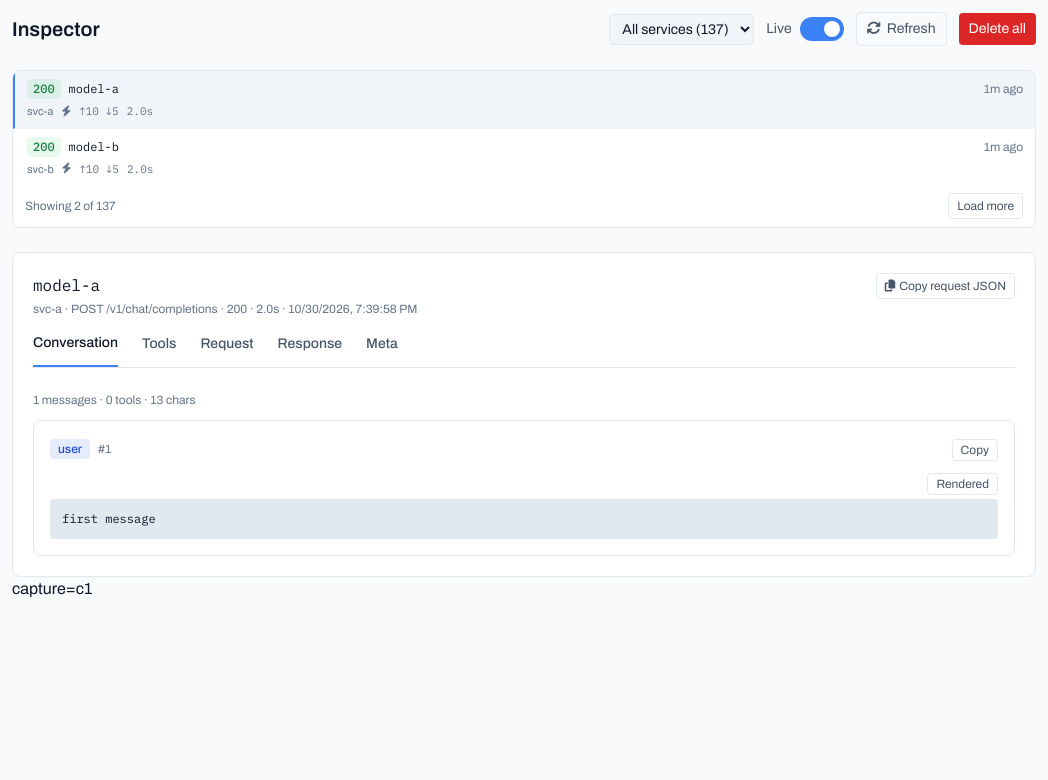
Test: InspectorPage detail behaviour › selecting a different capture resets the sub-tab to Conversation
Expected: the text "first message" is shown, [50,499,998,539]
Click the button "Request". click: (227, 350)
box: [200,333,254,367]
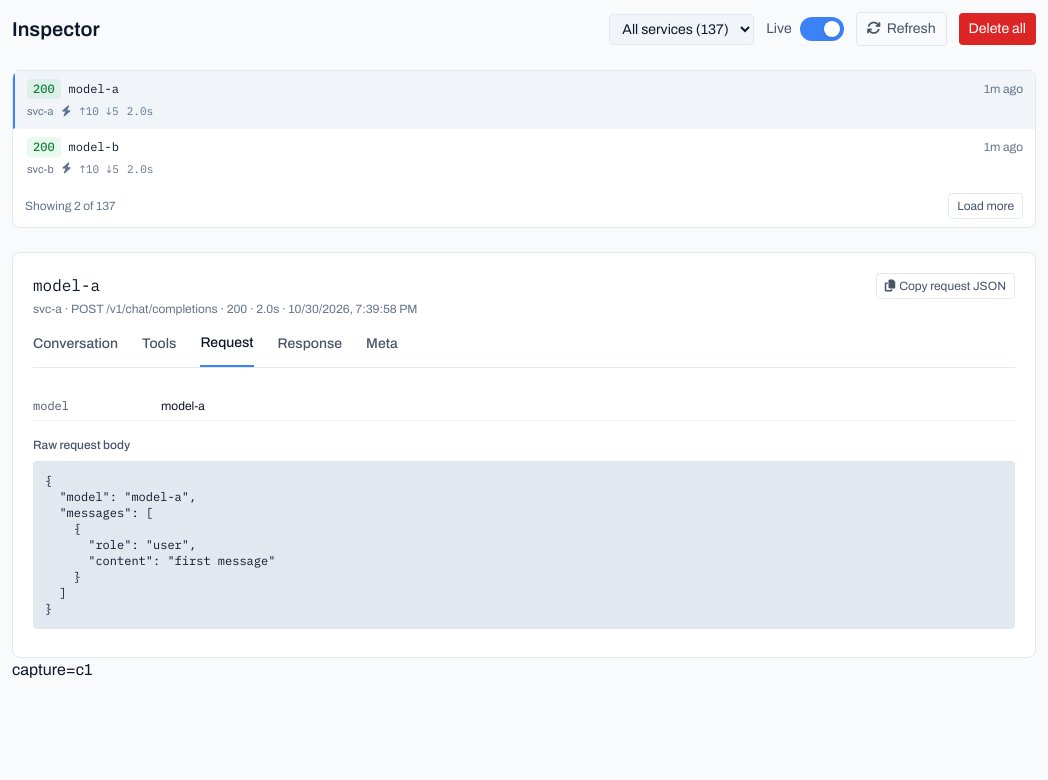
Result: the heading "Raw request body" is shown at [33,438,130,452]
Click the text "model-b". click: (94, 146)
box: [69,138,119,154]
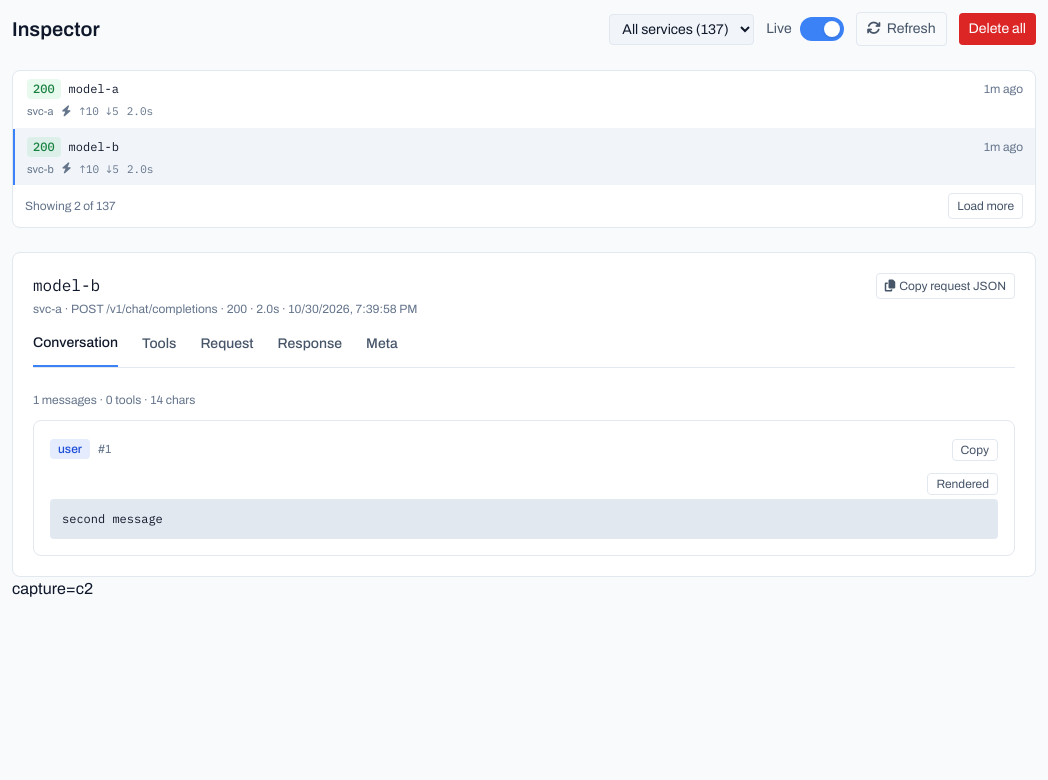
Result: the text "second message" is shown at [50,499,998,539]
Result: the heading "Raw request body" is gone
